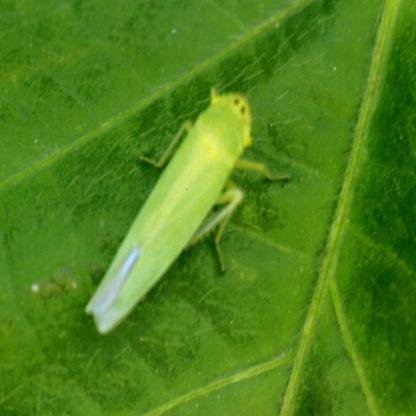Green-Leafhopper: (84, 84, 295, 338)
